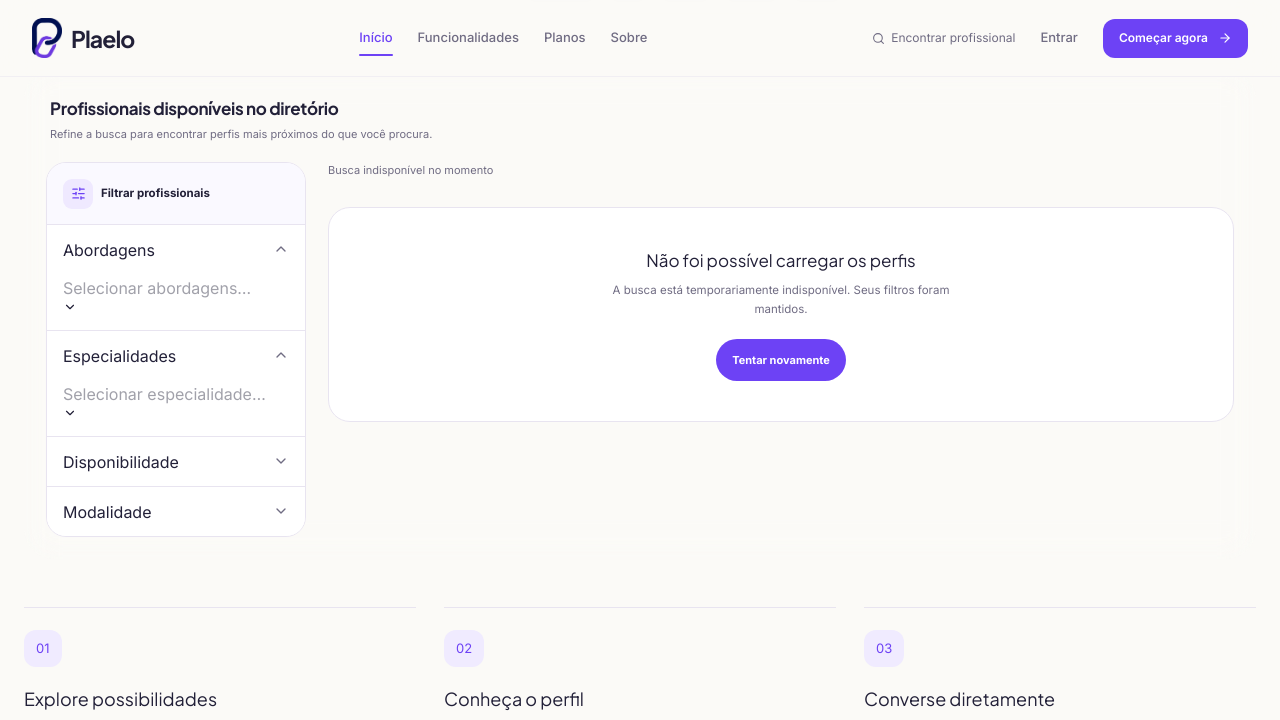
Test: Cadastro e diretório público › distingue erro de busca vazia, preserva filtros e permite tentar novamente
(page scrolled)
Expected: the message that starts with "Não foi possível carregar os perfis" is shown, [646,248,916,270]
Expected: the text "Nenhum resultado por aqui" is not shown
Click the button "Tentar novamente": (781, 360) [716,338,846,380]
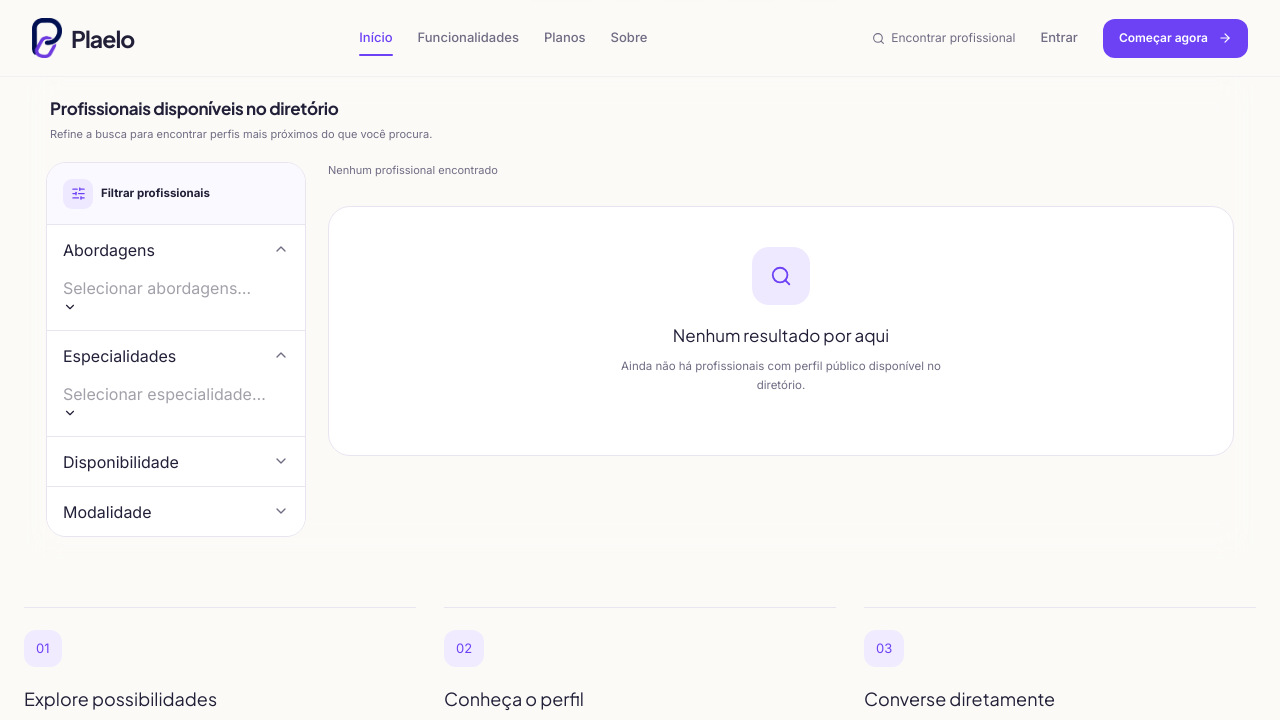
Expected: the heading "Nenhum resultado por aqui" is shown, [673,324,889,346]
